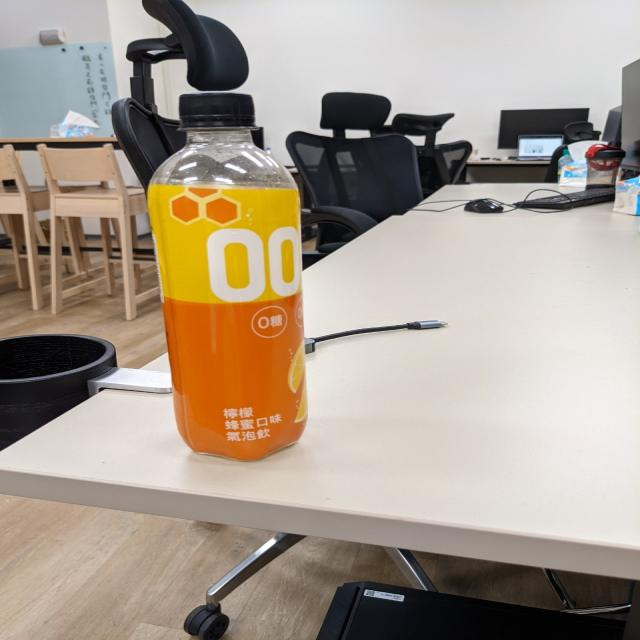bottle: (145, 93, 315, 465)
